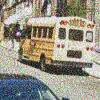buses: (17, 15, 95, 73)
